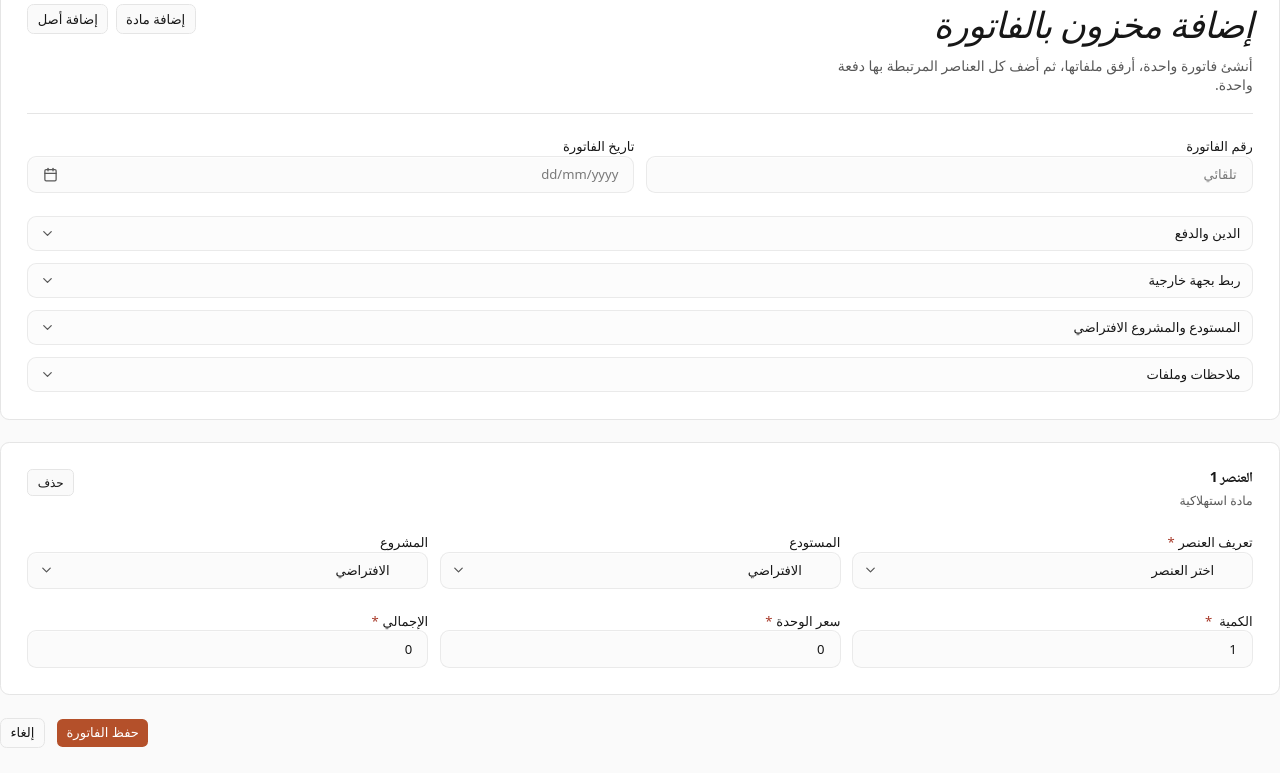
Test: InventoryInvoiceCreatePage progressive disclosure (issue #25) › blocks submitting a paid percent above 100 (issue #42)
This screenshot has width=1280, height=773.
Click the button "الدين والدفع": (1208, 233) top-left (28, 217), bottom-right (1252, 250)
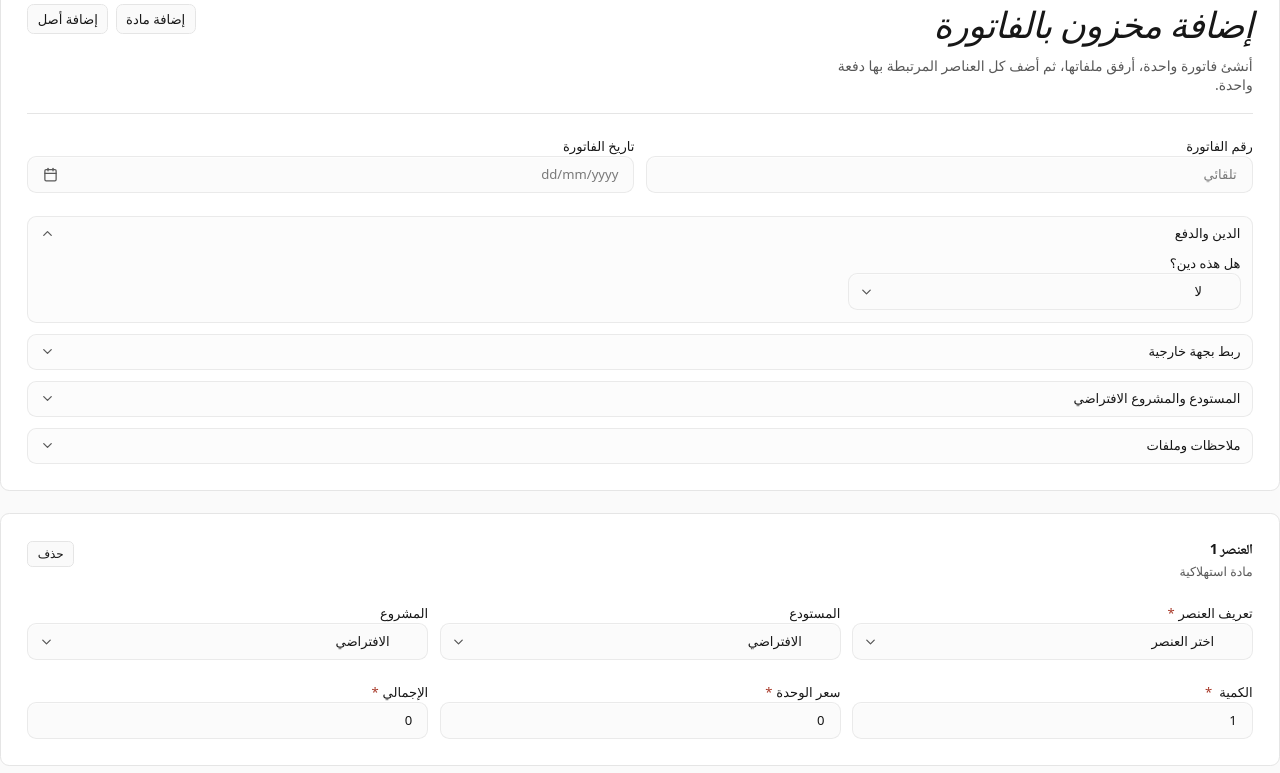
Expected: the button "الدين والدفع" is expanded, top-left (28, 217), bottom-right (1252, 250)
Select "نعم" in the dropdown labelled "هل هذه دين؟": (1044, 292) top-left (848, 273), bottom-right (1240, 310)
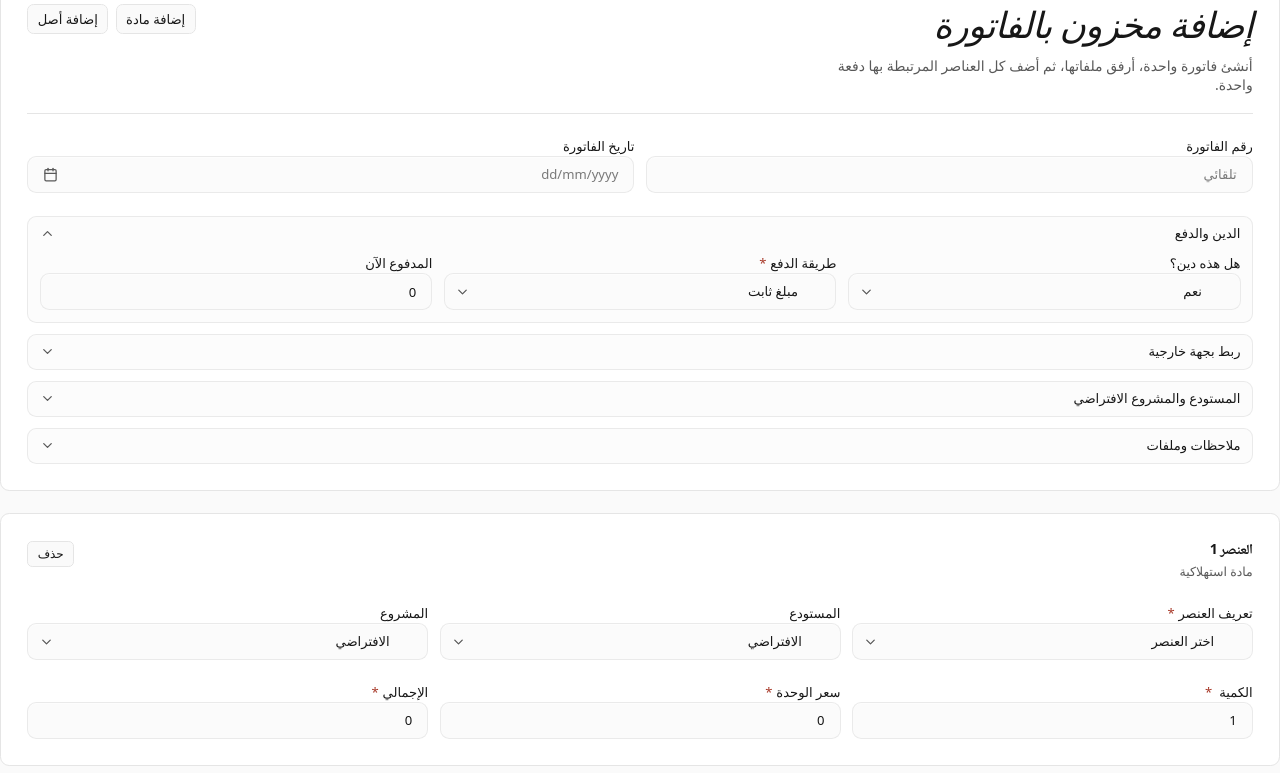
Select "نسبة مئوية" in the dropdown labelled "طريقة الدفع": (640, 292) top-left (444, 273), bottom-right (836, 310)
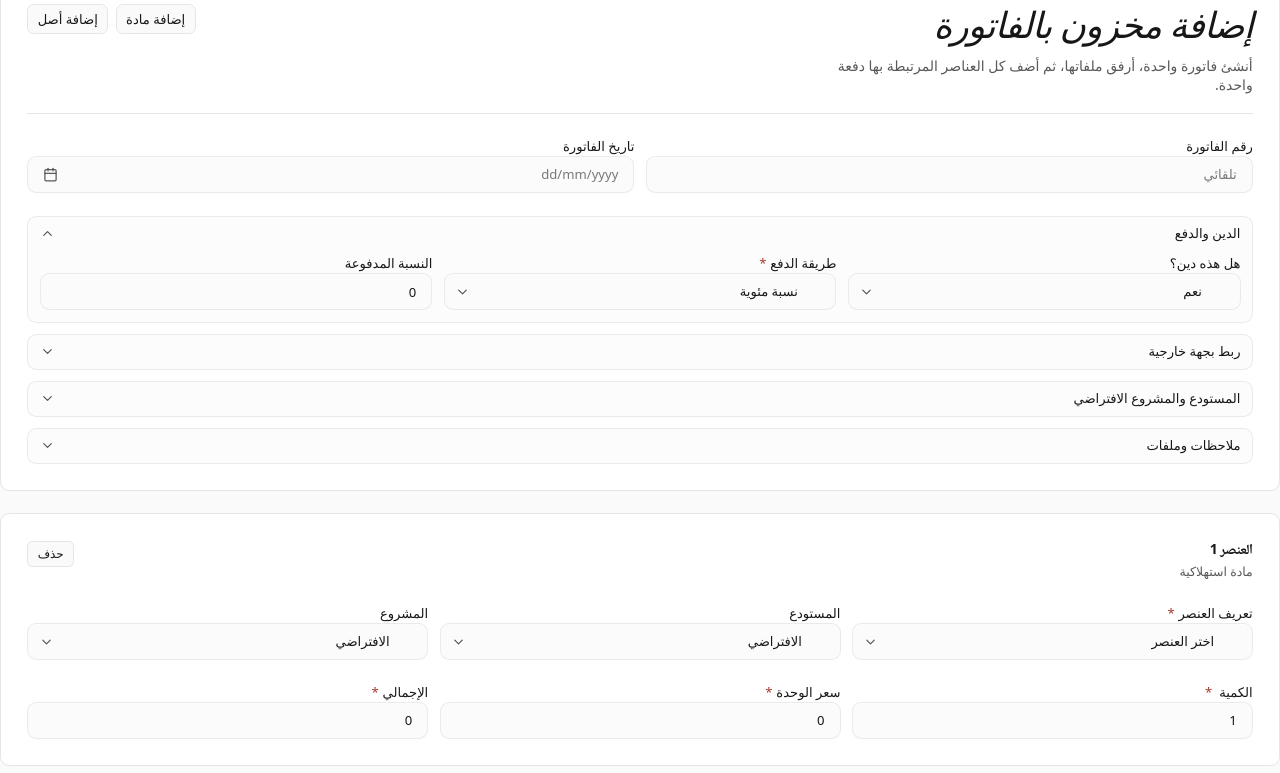
Replace the text in the number field labelled "النسبة المدفوعة" with "150": (236, 292) top-left (40, 273), bottom-right (432, 310)
(page scrolled)
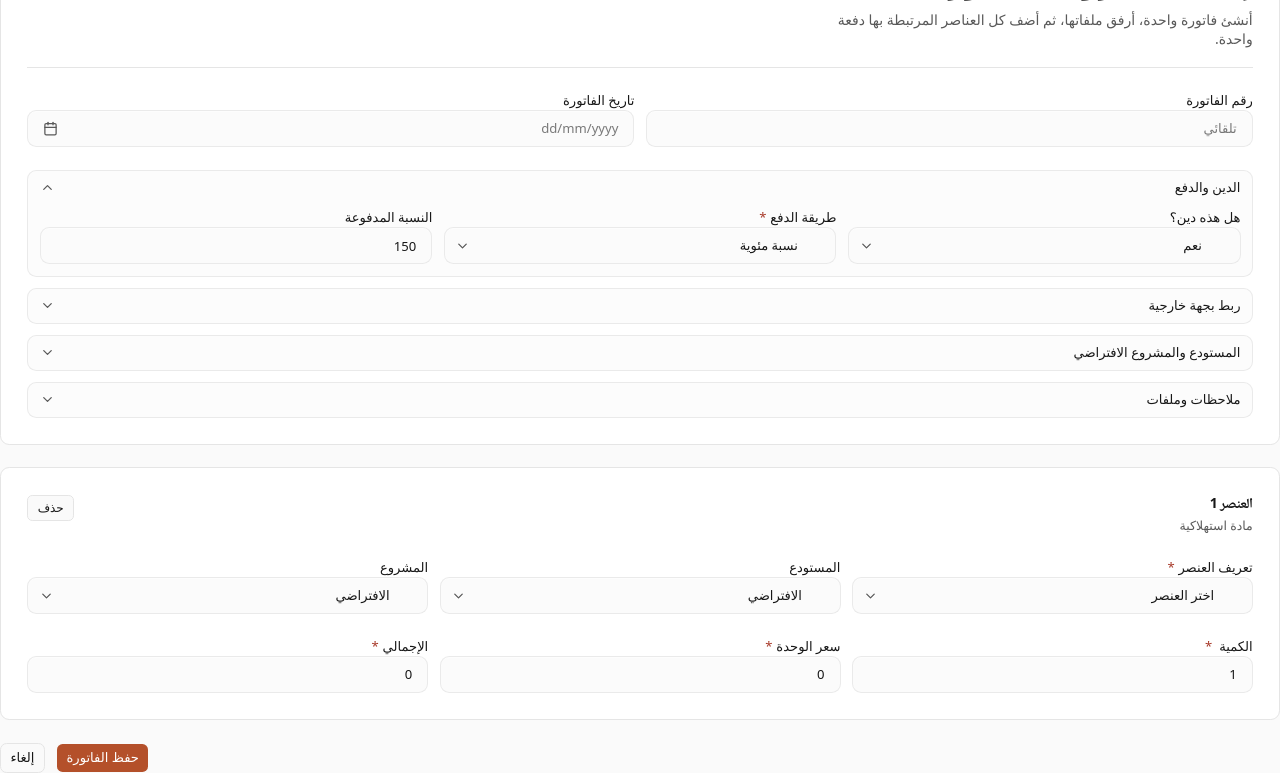
Click the button "حفظ الفاتورة": (103, 758) top-left (56, 743), bottom-right (149, 772)
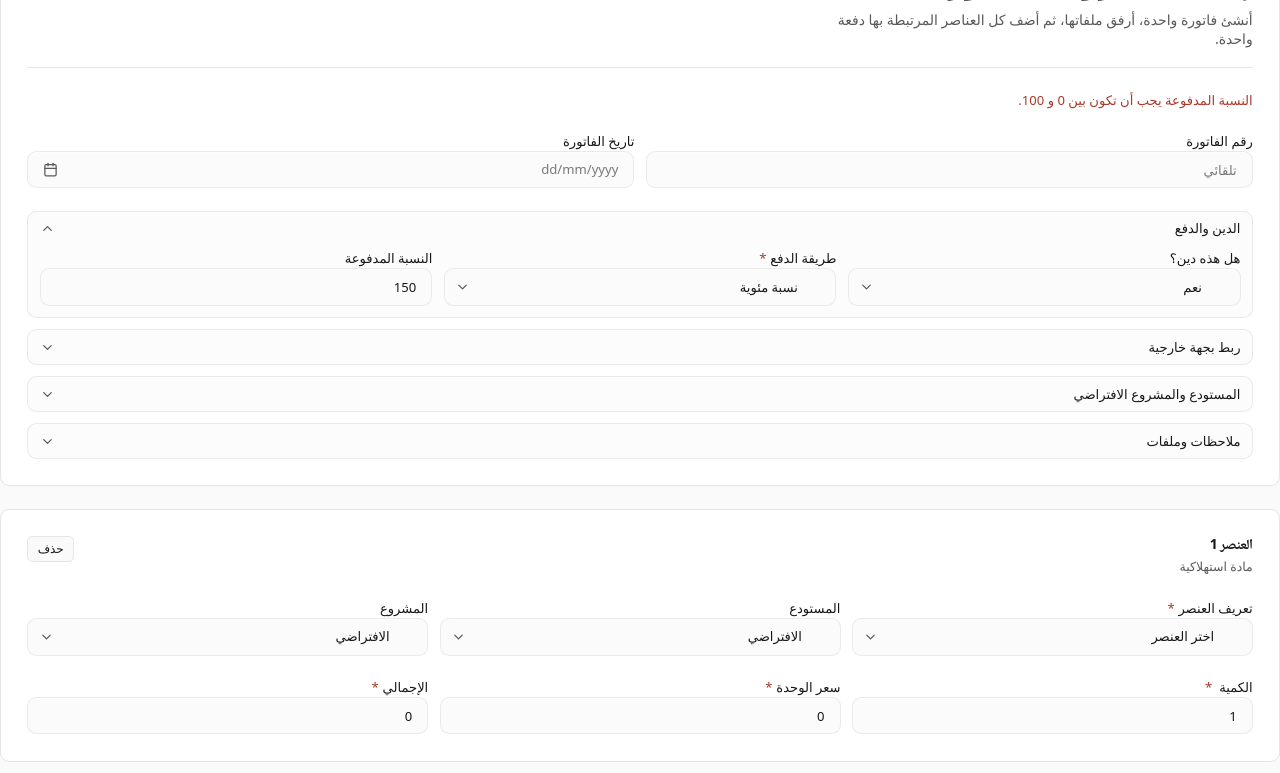
Expected: the text "النسبة المدفوعة يجب أن تكون بين 0 و 100." is shown, top-left (1018, 91), bottom-right (1253, 109)
